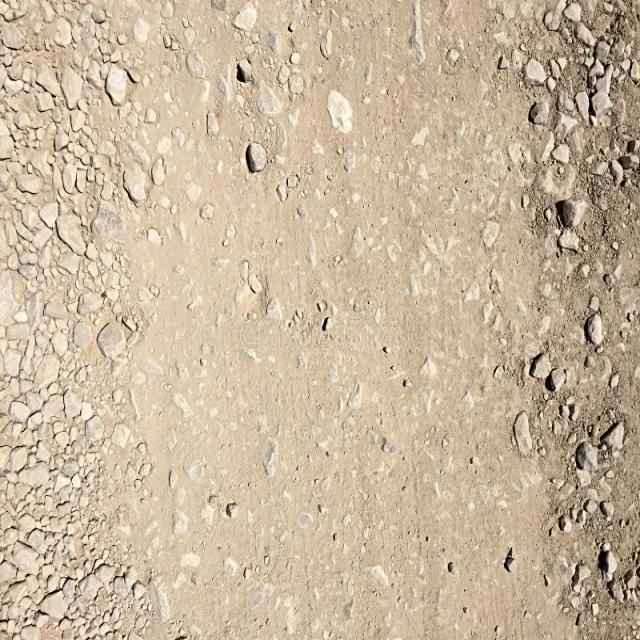suelo_seco: (131, 158, 574, 559)
